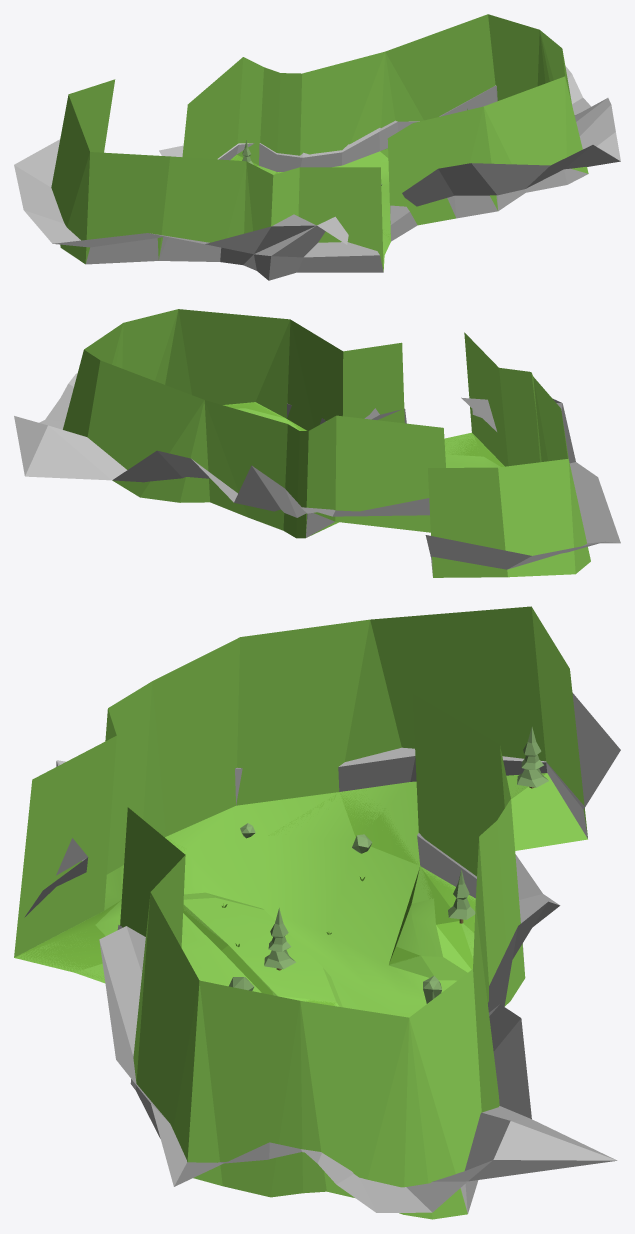
The picture shows the model from 3 angles, top to bottom: view 1: azimuth 30°, elevation 25°; view 2: azimuth 150°, elevation 25°; view 3: azimuth 270°, elevation 25°; orthographic projection. The views are drawn at different scales.
Visible parts, largest first — view 1: simple, level11; view 2: simple, level11; view 3: simple, level11.
Part boxes in pixels (left/top/right/bottom): simple: left=51, top=14, right=588, bottom=271; level11: left=14, top=66, right=620, bottom=280; simple: left=63, top=309, right=590, bottom=577; level11: left=14, top=373, right=620, bottom=575; simple: left=14, top=606, right=587, bottom=1219; level11: left=15, top=692, right=620, bottom=1213.
Bounding box in the file's own units: 144 × 31.4 × 75.31.
